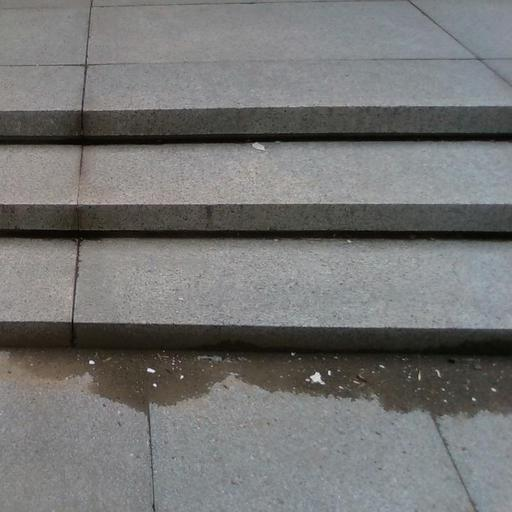stairs: (0, 1, 511, 351)
